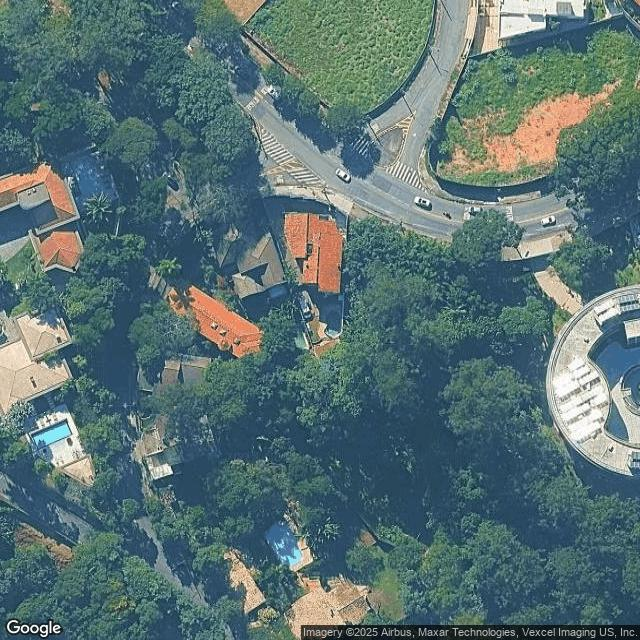pool: (284, 542, 296, 569), (53, 436, 71, 450)
